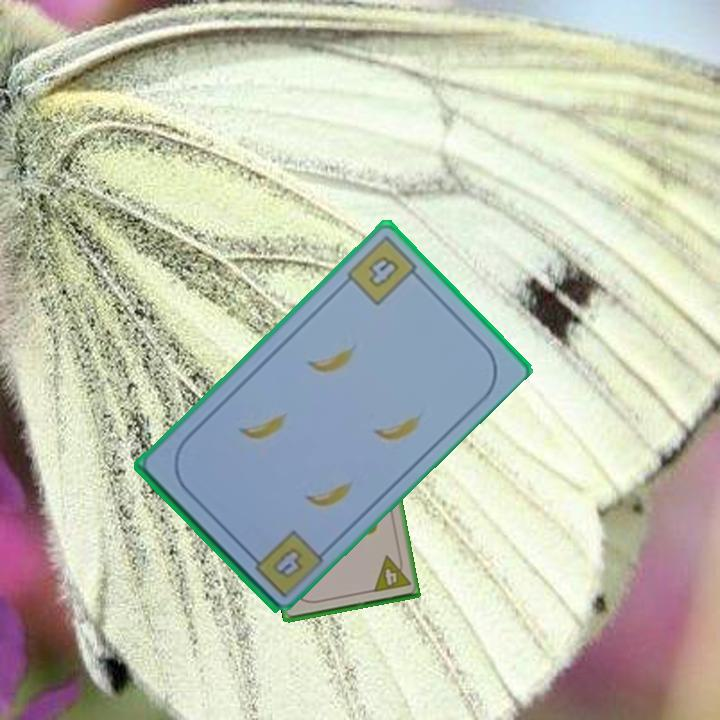4b: (343, 232, 425, 308), (268, 542, 306, 581)
4p: (369, 550, 413, 595)
